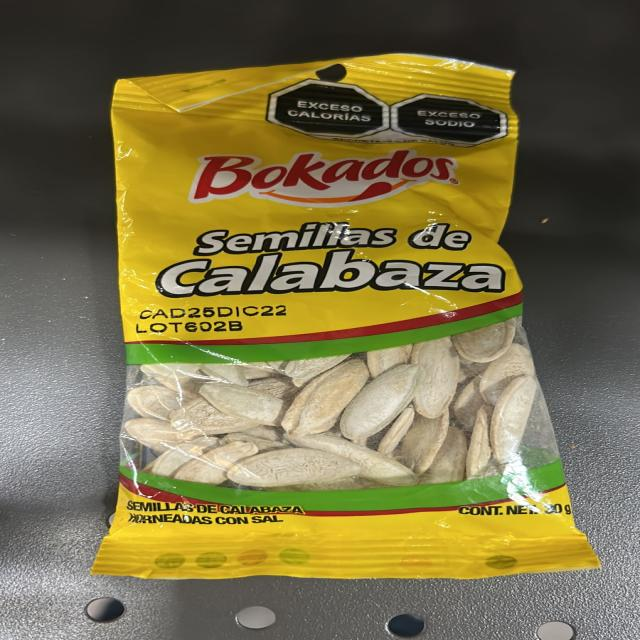semillasCalabaza: (103, 67, 528, 573)
